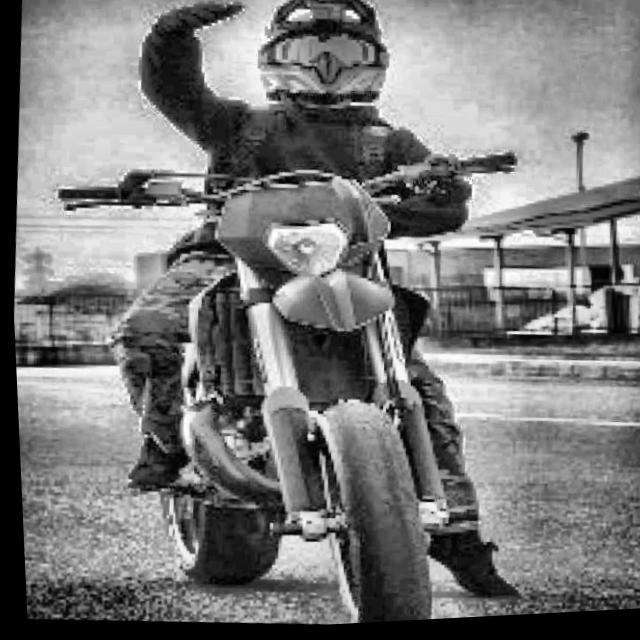motorcycle: (4, 105, 555, 640)
